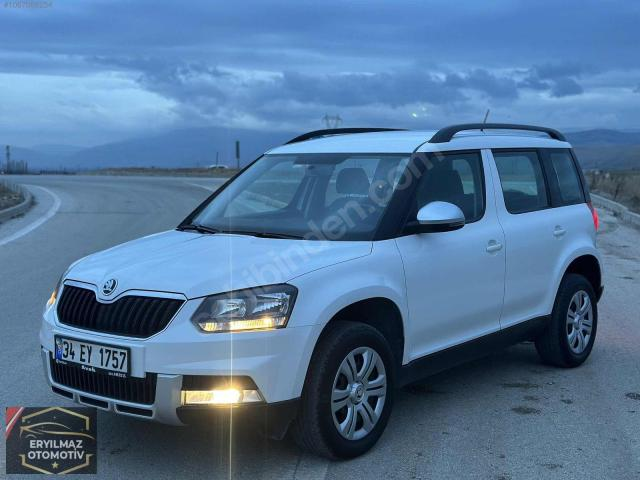plaka: (53, 335, 130, 374)
